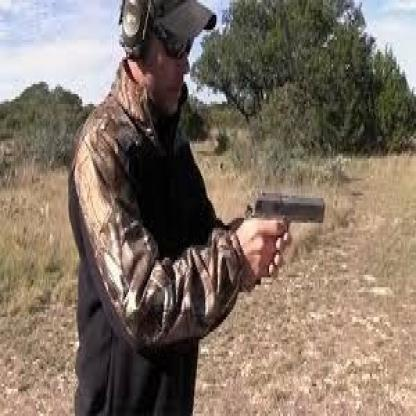Pistol: (253, 188, 325, 260)
